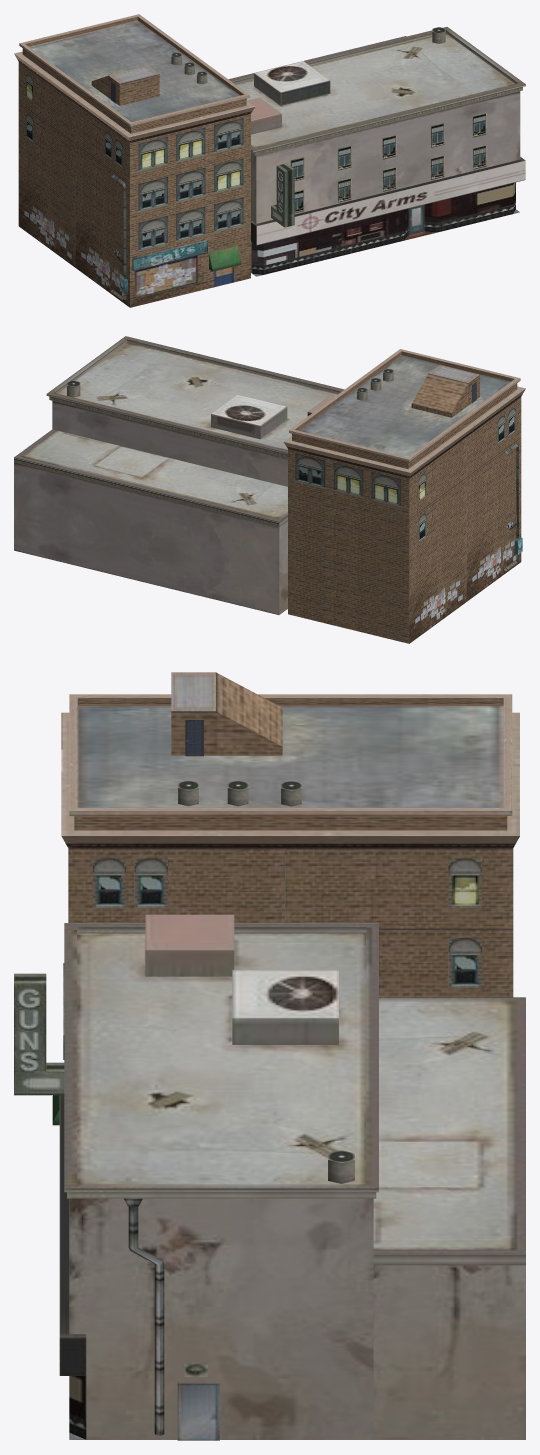
The model's file is mechanic.glb.
3 renders of one model, top to bottom at view 1: azimuth 30°, elevation 25°; view 2: azimuth 150°, elevation 25°; view 3: azimuth 270°, elevation 25°, orthographic. The views are drawn at different scales.
Visible parts, largest first — view 1: polySurface139, polySurface113, pCube30, pCube31, pCube11, polySurface112, pCube13, pCube34, pCube26, pCube12, pCube29, pCube106 (+22 smaller); view 2: pCube31, polySurface139, polySurface113, pCube30, pCube29, pCube106, pCube105, pCube104, pCube103, polySurface142, polySurface125, pCube11 (+8 smaller); view 3: pCube31, polySurface113, polySurface139, pCube30, pCube29, pCube103, pCube34, polySurface125, pCube104, polySurface142, polySurface124, polySurface140 (+9 smaller).
Boxes of the visible parts, box(x1,y1,x2,y2) form: polySurface139: box(14, 14, 254, 142); polySurface113: box(235, 33, 514, 147); pCube30: box(229, 27, 525, 189); pCube31: box(228, 36, 520, 223); pCube11: box(75, 224, 250, 307); polySurface112: box(251, 157, 525, 245); pCube13: box(75, 144, 250, 223); pCube34: box(75, 104, 250, 183); pCube26: box(251, 213, 388, 274); pCube12: box(75, 184, 250, 263); pCube29: box(388, 182, 515, 244); pCube106: box(18, 183, 75, 267); pCube31: box(14, 429, 287, 580); polySurface139: box(283, 349, 525, 478); polySurface113: box(57, 342, 337, 449); pCube30: box(46, 336, 344, 486); pCube29: box(14, 516, 287, 614); pCube106: box(288, 558, 466, 643); pCube105: box(288, 518, 466, 599); pCube104: box(288, 477, 466, 559); pCube103: box(288, 437, 466, 518); polySurface142: box(411, 365, 479, 417); polySurface125: box(211, 394, 287, 439); pCube11: box(466, 518, 521, 601); pCube31: box(69, 997, 525, 1370); polySurface113: box(77, 933, 366, 1184); polySurface139: box(61, 694, 519, 848); pCube30: box(64, 923, 378, 1265); pCube29: box(69, 1371, 525, 1439); pCube103: box(285, 848, 513, 928); pCube34: box(68, 848, 284, 922); polySurface125: box(232, 970, 338, 1044); pCube104: box(379, 928, 513, 997); polySurface142: box(171, 672, 282, 755); polySurface124: box(145, 914, 234, 976); polySurface140: box(61, 712, 519, 835).
Bounding box in the file's own units: 3621 × 1749 × 2019.
2 materials, 2 textured.
